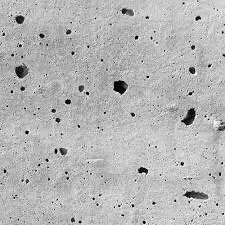Spalling: (1, 1, 225, 225)
